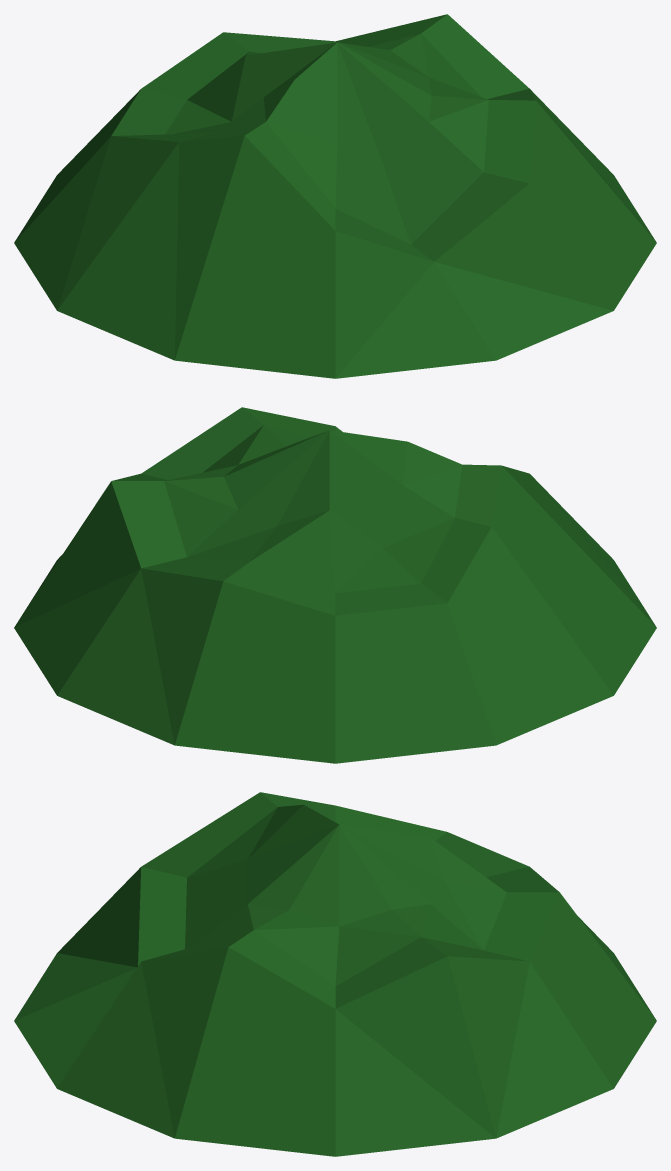
The model's file is TT_Japanese_Expandable_Powder.fbx.
The picture shows the model from 3 angles, top to bottom: view 1: azimuth 30°, elevation 25°; view 2: azimuth 150°, elevation 25°; view 3: azimuth 270°, elevation 25°; orthographic projection.
Parts seen in each view (by area): view 1: Japanese_Mixing_bowl_Powder; view 2: Japanese_Mixing_bowl_Powder; view 3: Japanese_Mixing_bowl_Powder.
Part boxes in pixels (left/top/right/bottom): Japanese_Mixing_bowl_Powder: left=14, top=14, right=656, bottom=378; Japanese_Mixing_bowl_Powder: left=14, top=407, right=656, bottom=763; Japanese_Mixing_bowl_Powder: left=14, top=792, right=656, bottom=1156.
Bounding box in the file's own units: 11.45 × 3.9 × 11.45.
